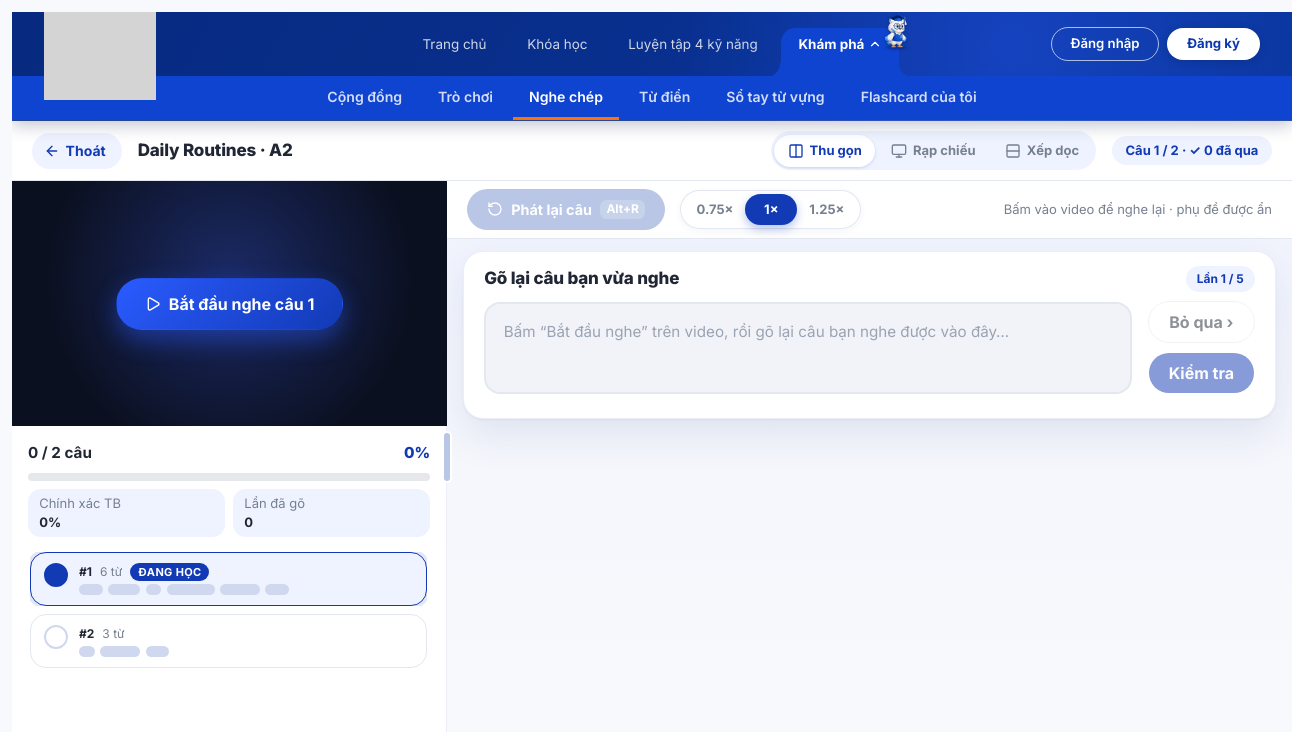
Scenario: VideoDictationPlayerPage › shows one covered tile per word and uncovers a word, or all of them, on a click
Expected: the text "Nhấn vào ô để xem từ" is not shown
Click the button "Bắt đầu nghe câu 1".
click(230, 304)  # box [116,278,343,330]
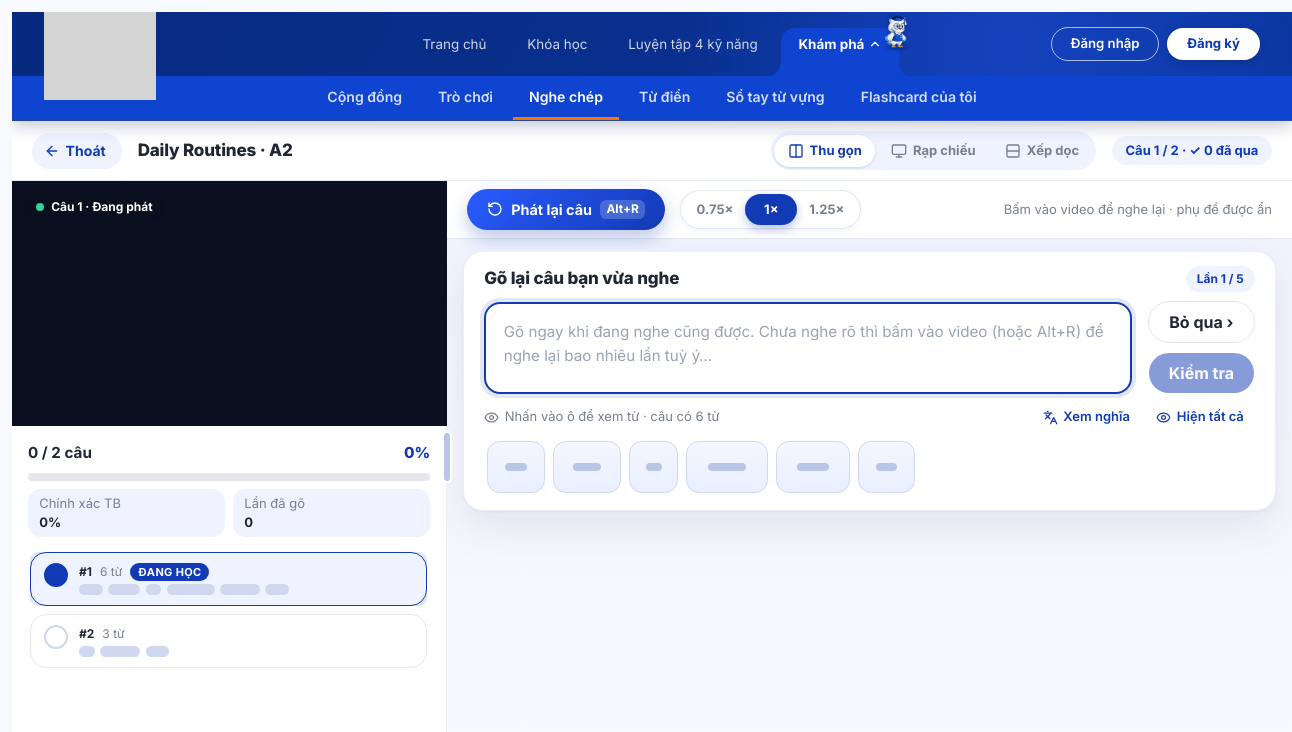
Expected: the text "goes" is not shown
Expected: the text "Nhấn vào ô để xem từ · câu có 6 từ" is shown, [484,407,720,427]
Expected: the number of buttons named "Từ 1, bấm để xem" is 6
Click the button named "Từ 2, bấm để xem".
click(587, 467)  # box [553,441,621,493]
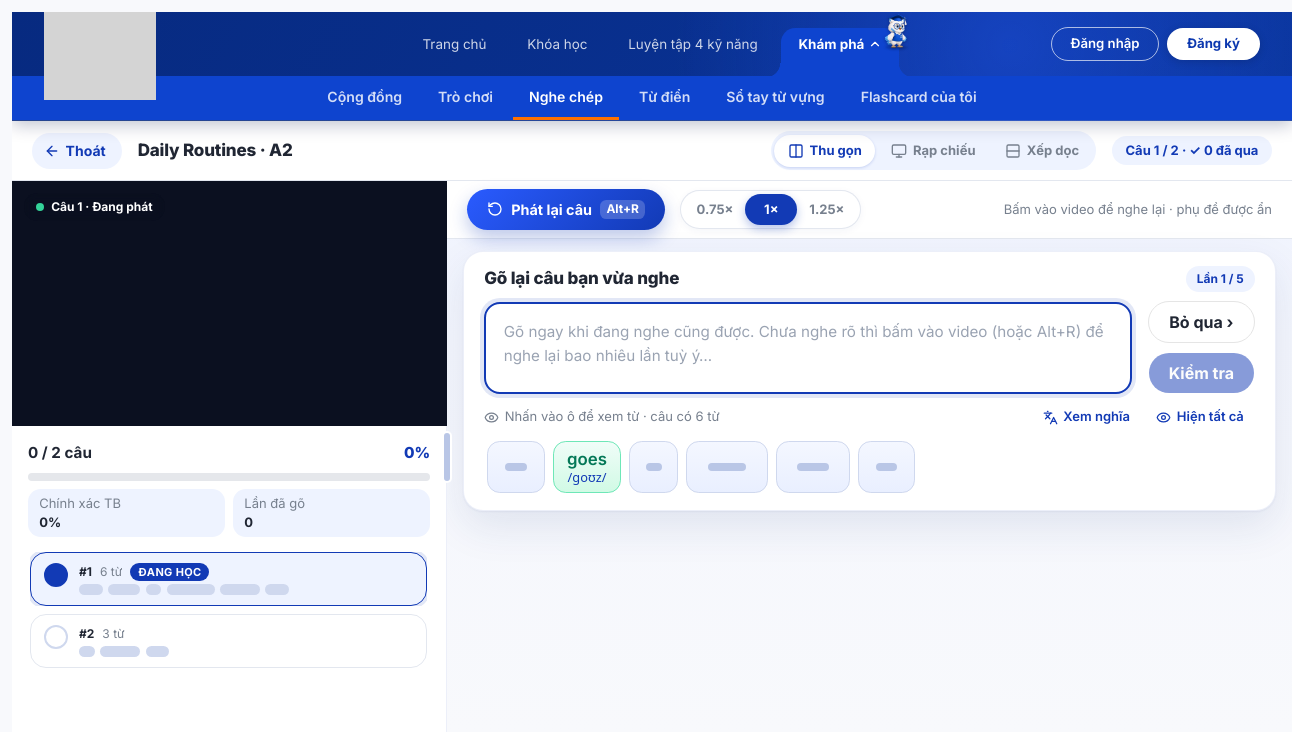
Expected: the text "school" is not shown
Expected: the button "goes /ɡoʊz/" is pressed
Click the button "goes /ɡoʊz/".
click(587, 467)  # box [553,441,621,493]
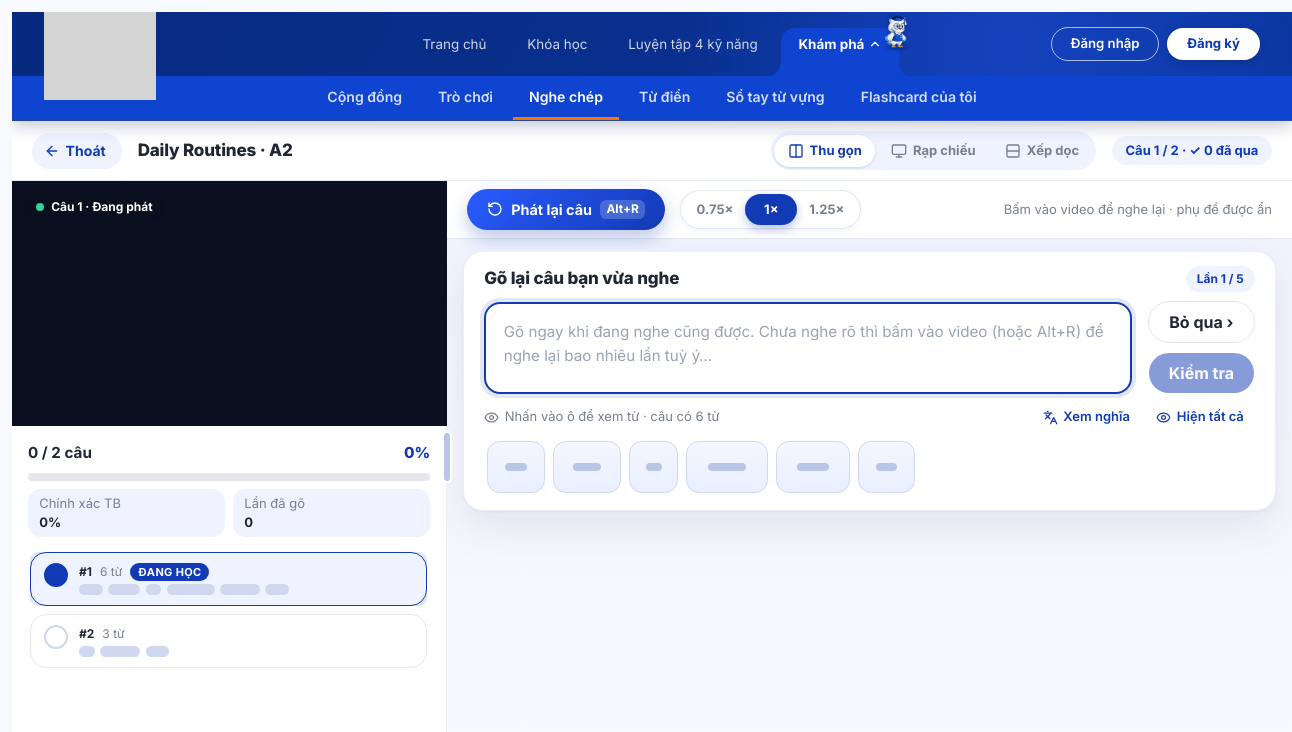
Expected: the button "goes" is gone
Click the button "Hiện tất cả".
click(1200, 417)  # box [1145,403,1255,431]
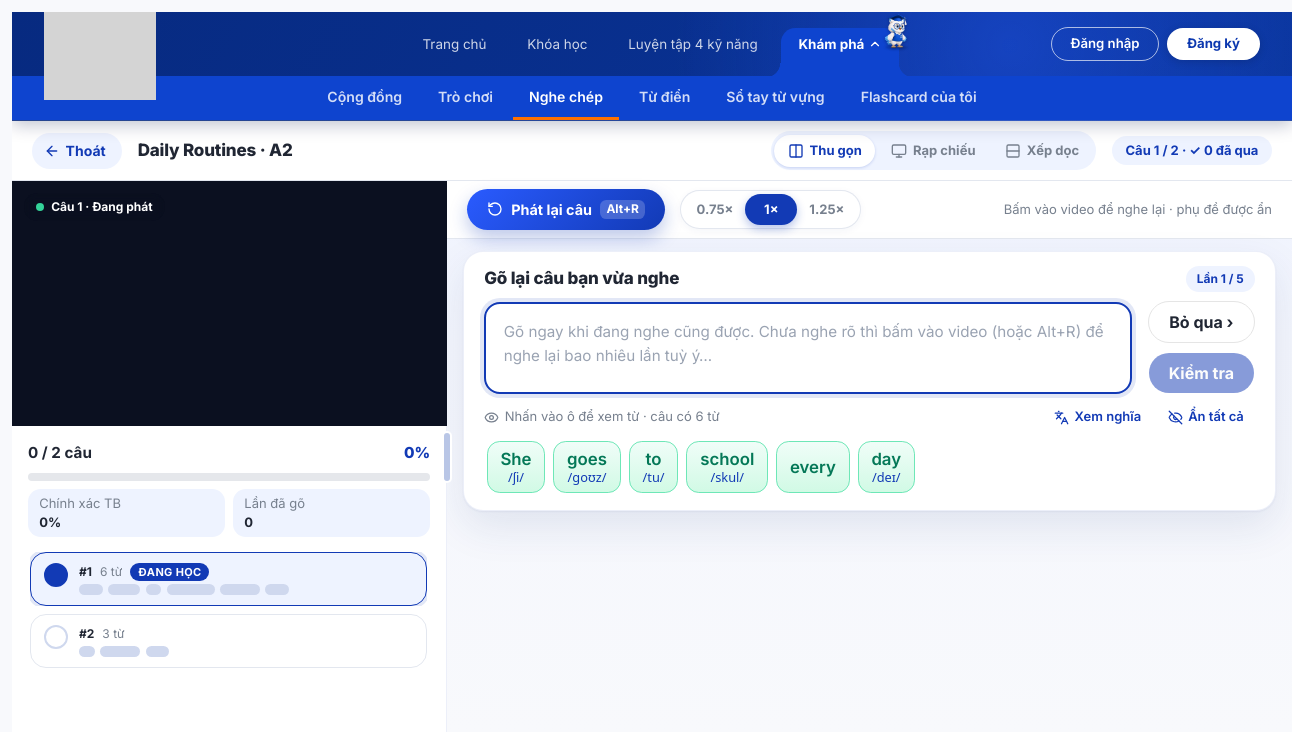
Expected: the text "school" is shown, [700,450,754,470]
Expected: the text "day" is shown, [871,450,901,470]
Click the button "Ẩn tất cả".
click(1206, 417)  # box [1156,403,1255,431]
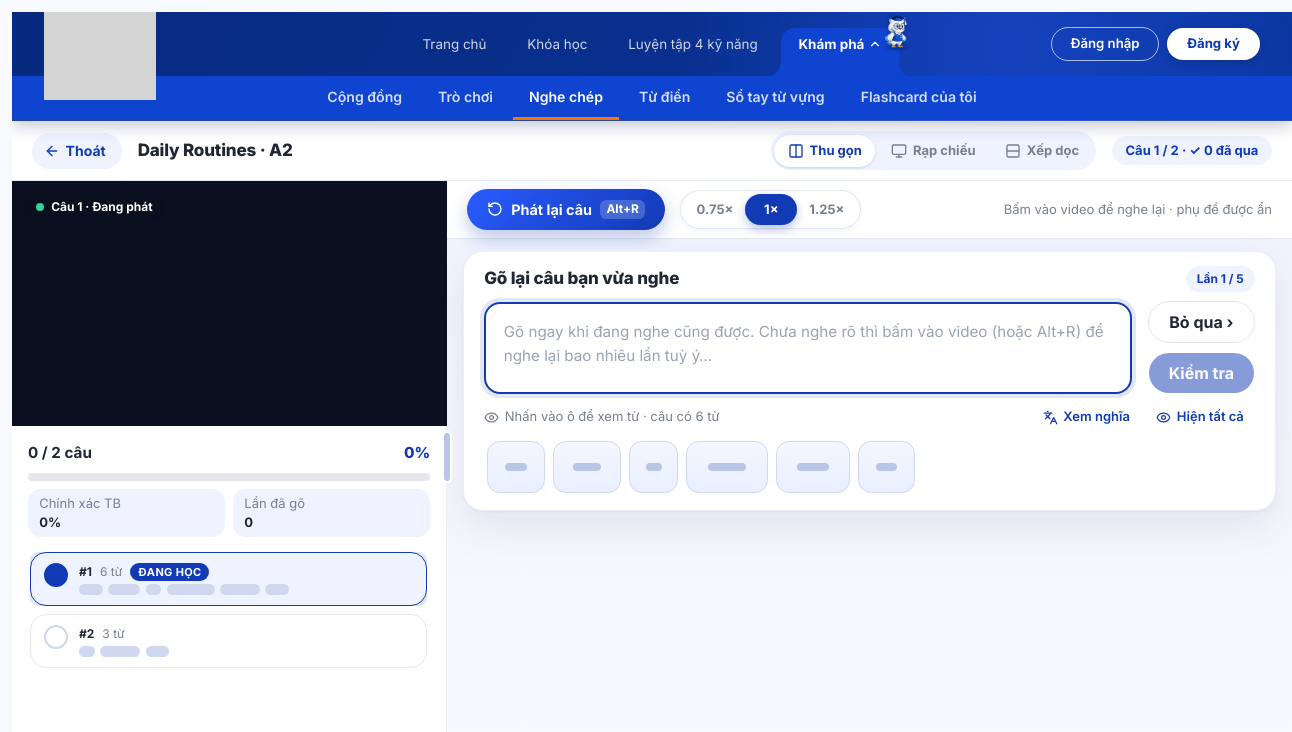
Expected: the button "school" is gone
